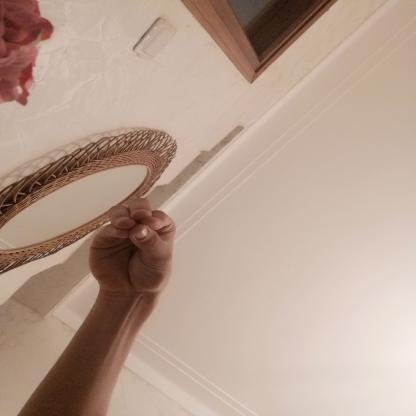HA: (75, 188, 195, 316)
